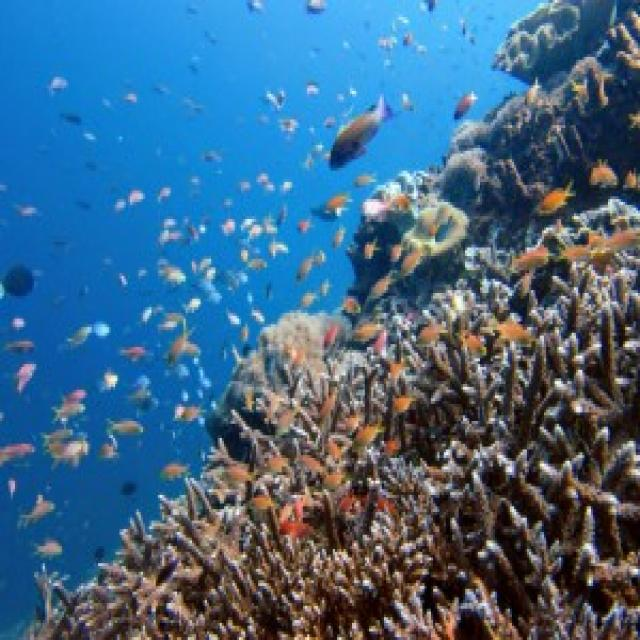Healthy: (39, 283, 639, 638), (214, 311, 330, 419), (349, 175, 468, 277), (492, 1, 596, 81)
